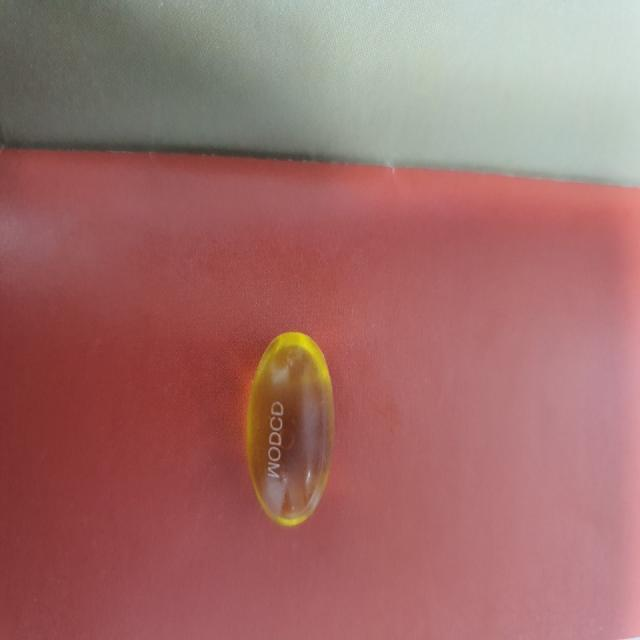pill: (244, 322, 342, 530)
